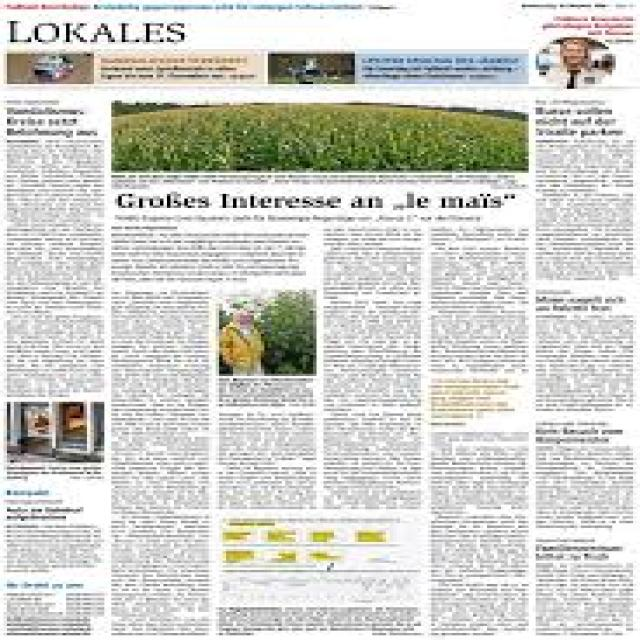paper: (0, 0, 635, 637)
